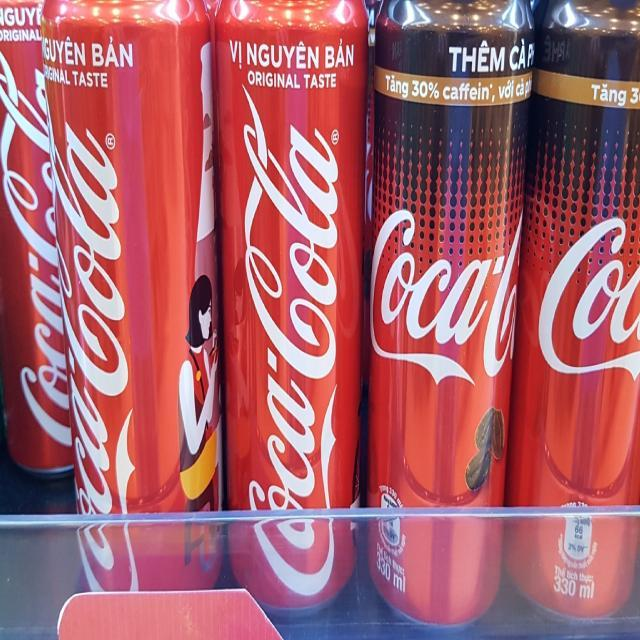coca-cola: (360, 0, 536, 640), (41, 1, 225, 596), (216, 1, 372, 620), (504, 0, 640, 640)
